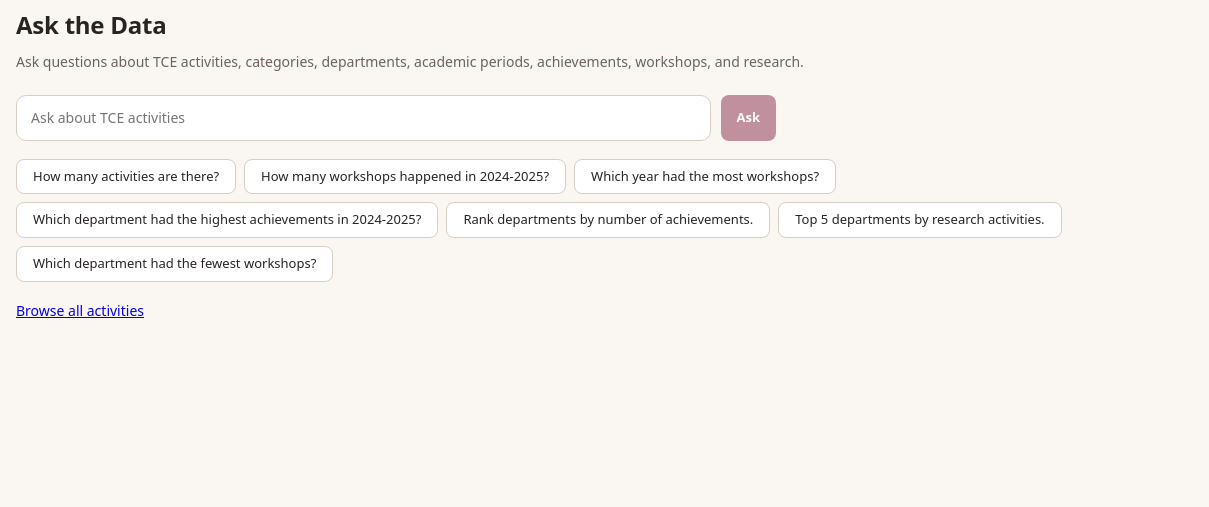
Test: Ask the Data › hides technical request errors
Click the button "How many activities are there?" at (126, 177), box [16,159,236,194]
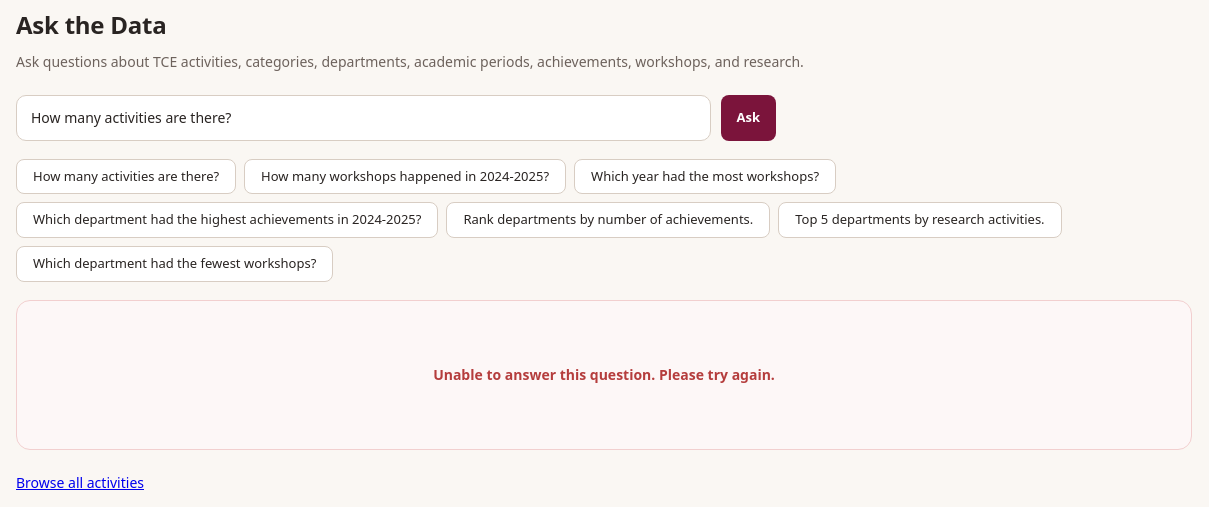
Result: the text "Unable to answer this question. Please try again." is shown at [16,300,1192,450]
